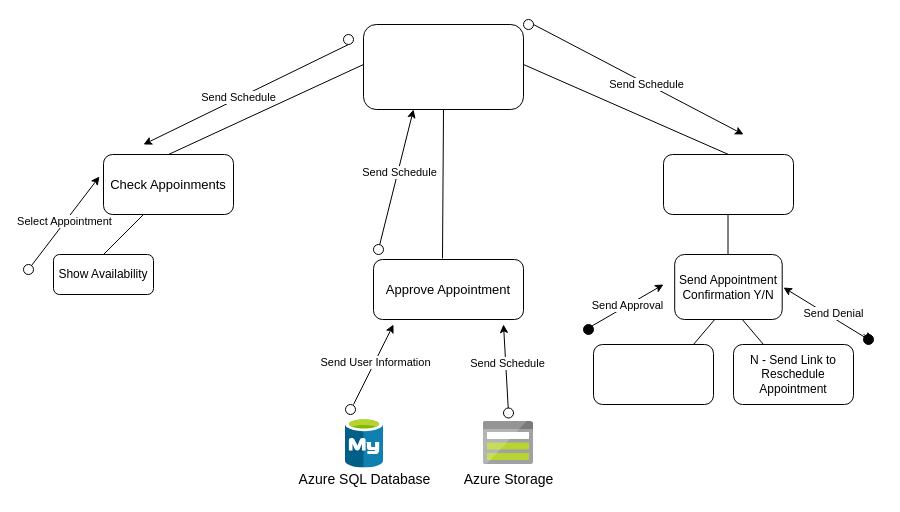
Some shapes in this 900 by 512 pixel diagram are drawn without their labels. The shapes that lost their labels are listed below. From the top down, each one's centre as x and y in pixels, then its label:
At point (443, 67): "FCS Appointment Scheduling System".
At point (728, 184): "Send Notification".
At point (653, 374): "Y - Thank you for confirming".
